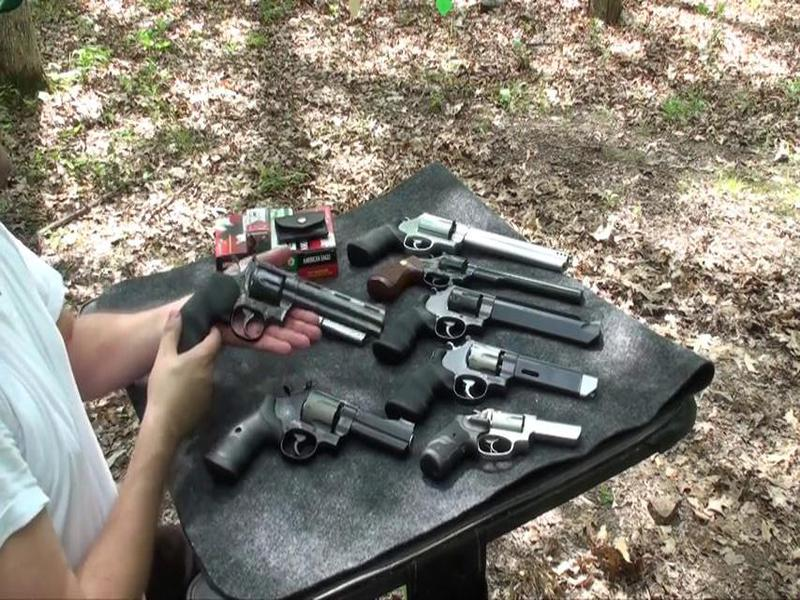Revolver: (178, 253, 388, 355), (217, 378, 417, 469)
